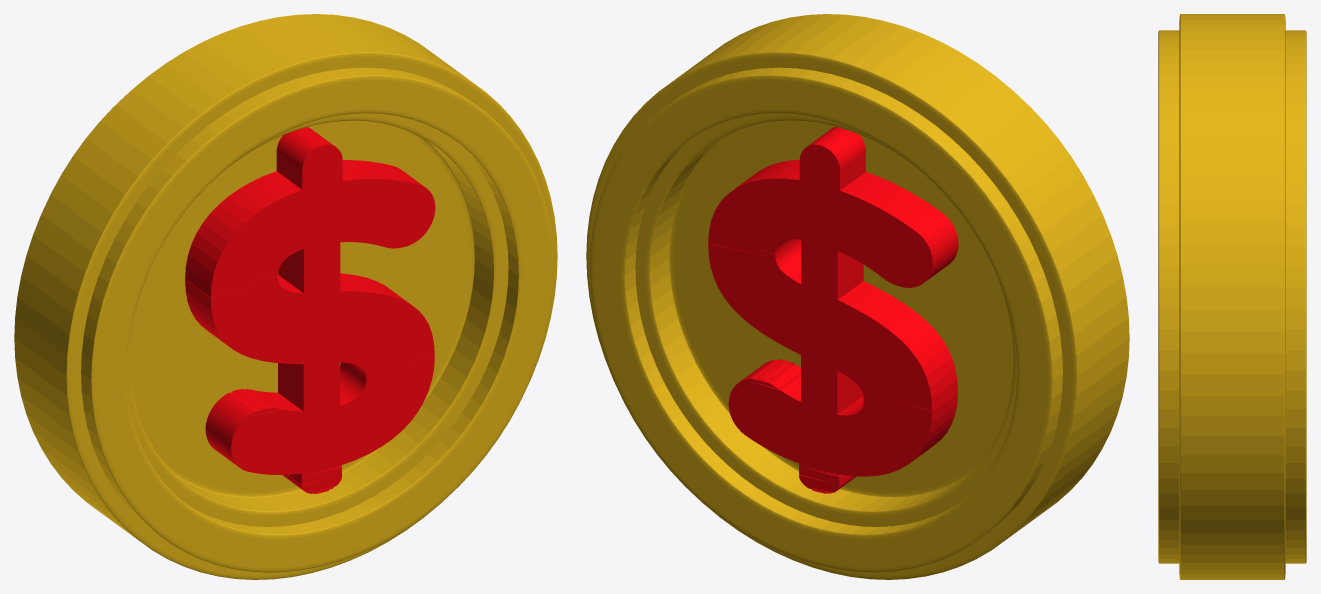
Rendered from coin.fbx.
3 views of the same model, side by side, from view 1: azimuth 30°, elevation 25°; view 2: azimuth 150°, elevation 25°; view 3: azimuth 270°, elevation 25° (orthographic).
Visible parts, largest first — view 1: Cylinder, Curve.001; view 2: Cylinder, Curve; view 3: Cylinder.
Part boxes in pixels (box(x1,y1,x2,y2)): Cylinder: box(14, 14, 557, 579); Curve.001: box(185, 127, 435, 493); Cylinder: box(586, 14, 1129, 579); Curve: box(708, 126, 958, 493); Cylinder: box(1158, 14, 1306, 579).
Size of the model in its own units: 200 by 200 by 52.47.
